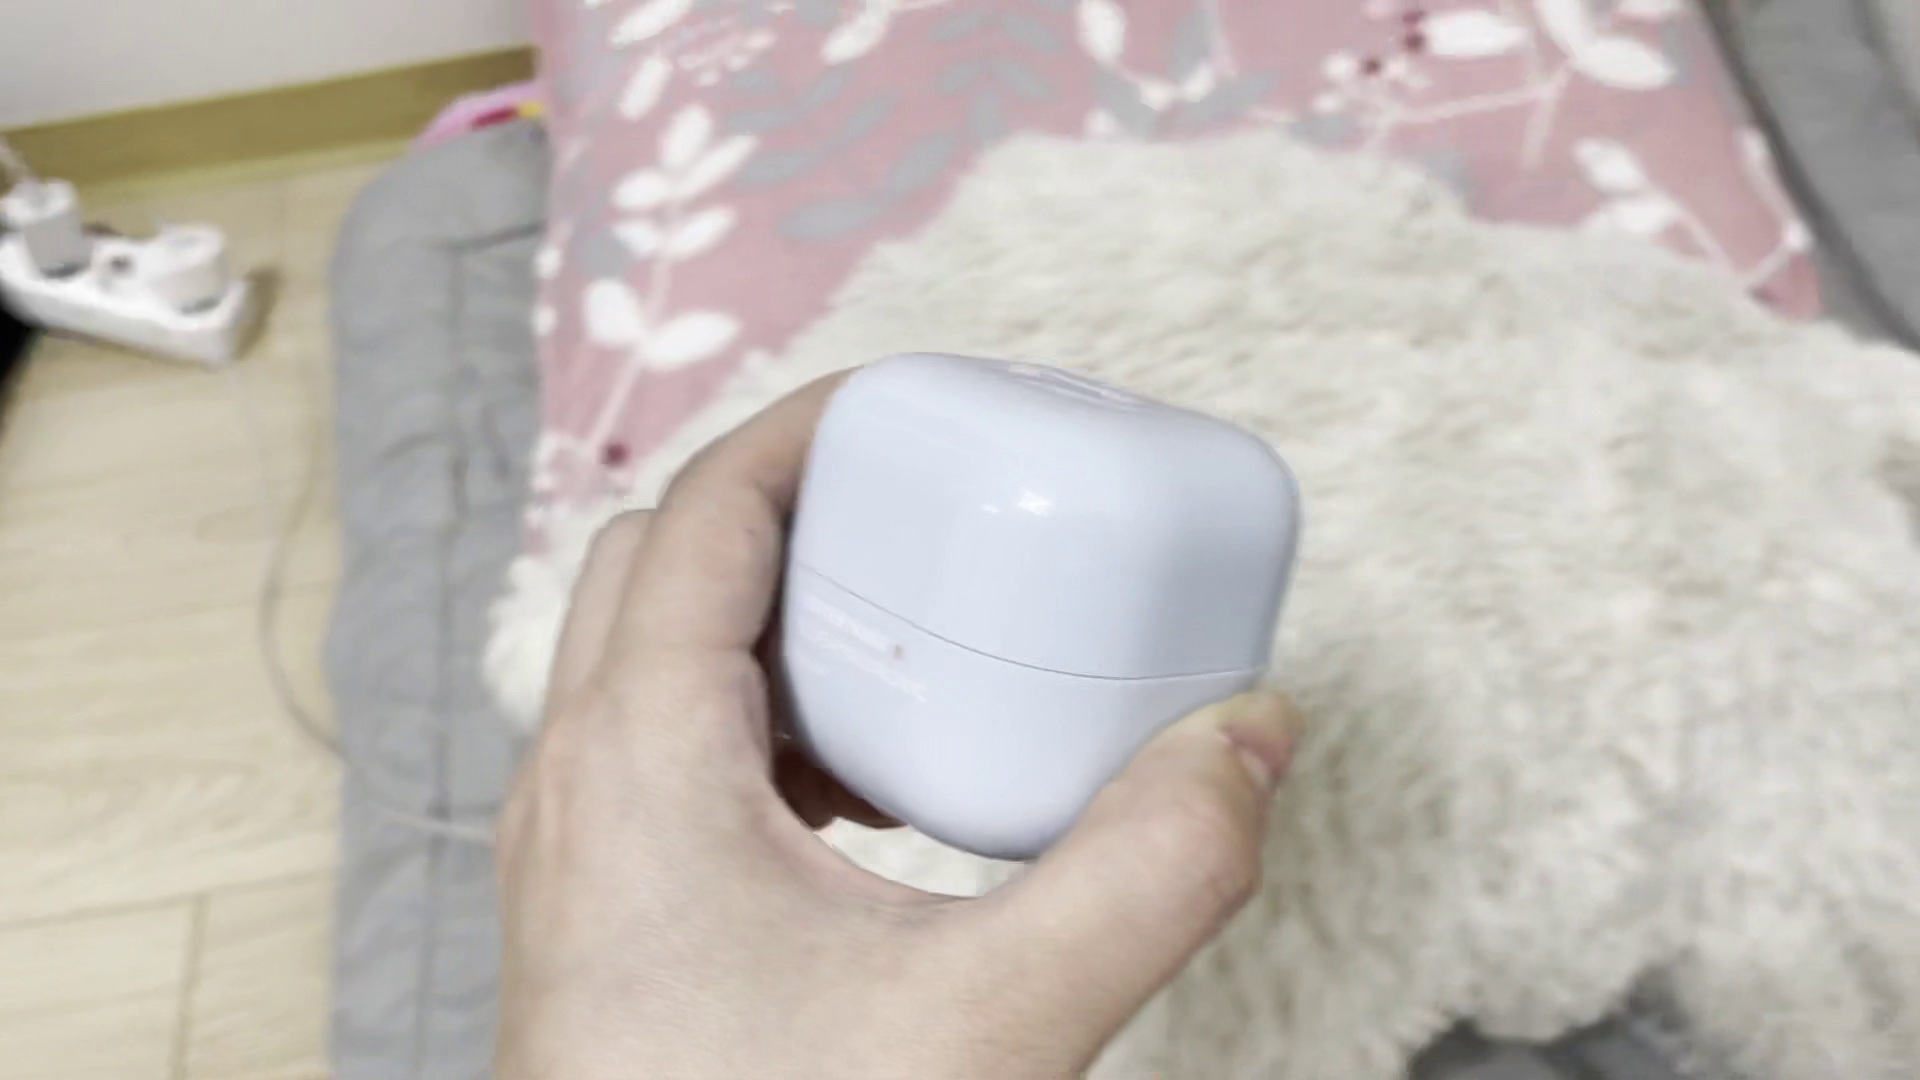cream: (781, 352, 1302, 856)
